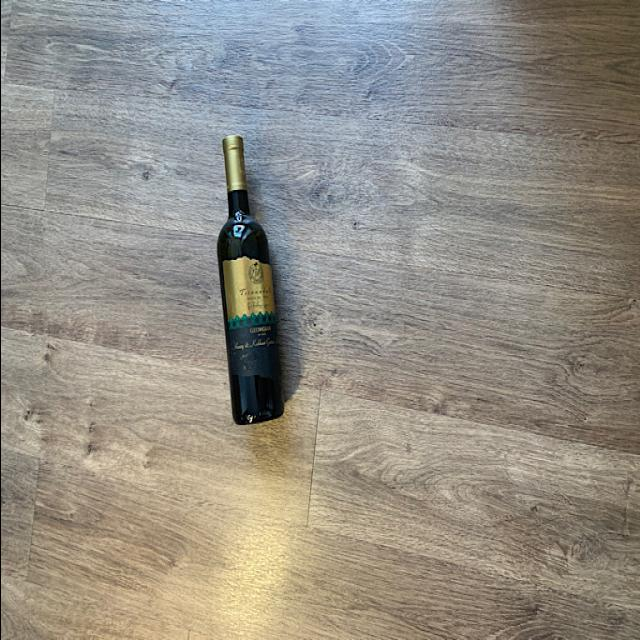litter: (208, 128, 286, 428)
